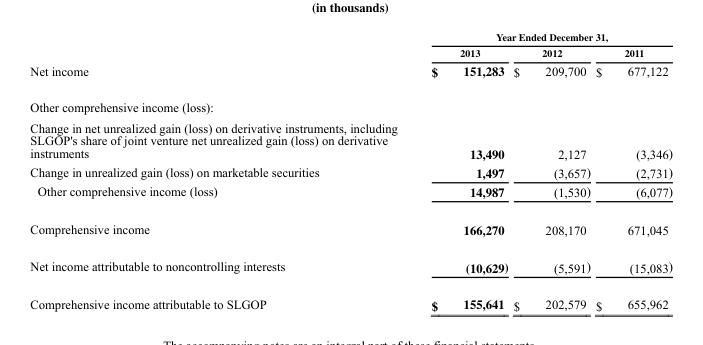table: (29, 29, 671, 314)
table column: (29, 29, 413, 314), (413, 29, 510, 314), (510, 29, 592, 314), (592, 29, 671, 314)
table column header: (29, 29, 671, 60)
table projected row header: (29, 90, 671, 117)
table row: (29, 117, 671, 163), (29, 247, 671, 285), (29, 210, 671, 247), (29, 60, 671, 90), (29, 285, 671, 314), (29, 182, 671, 210), (29, 90, 671, 117), (29, 163, 671, 182), (29, 44, 671, 60), (29, 29, 671, 44)
table spanning cell: (413, 29, 671, 44)
